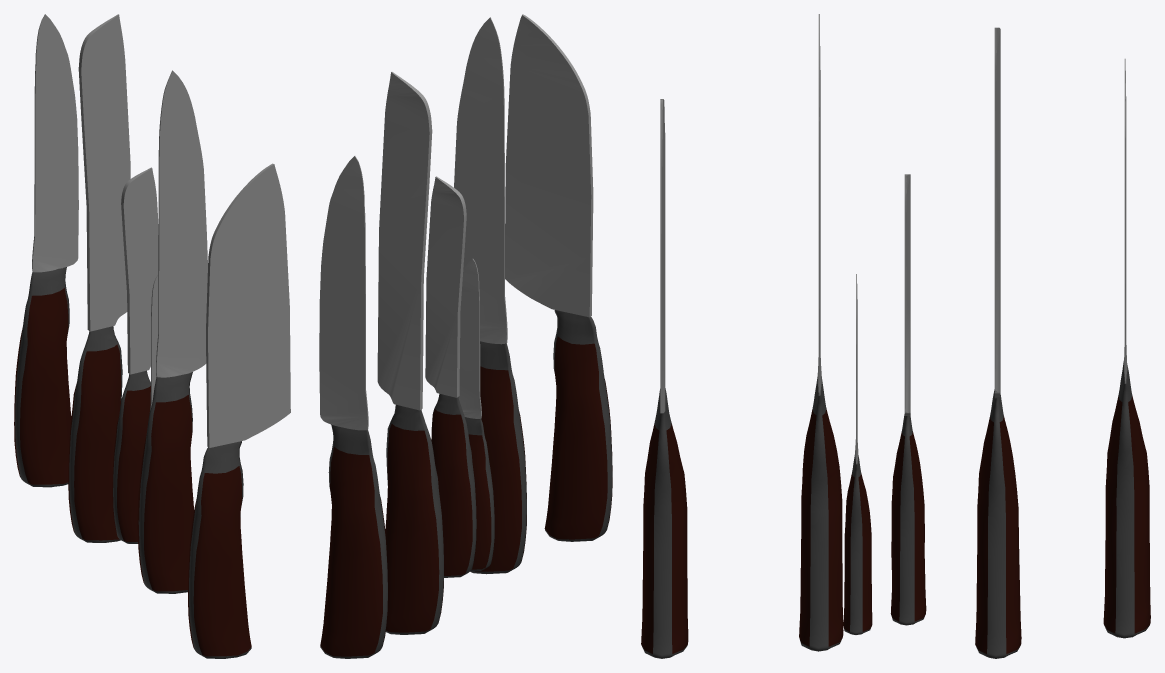
File: Knives separated.FBX
The picture shows the model from 3 angles, left to right: view 1: azimuth 30°, elevation 25°; view 2: azimuth 150°, elevation 25°; view 3: azimuth 270°, elevation 25°; orthographic projection. The views are drawn at different scales.
Visible parts, largest first — view 1: Knife santoku001, Knife Chef001, Knife bread001, Knife slicer001, Knife sandwich001, Knife vegetable001; view 2: Knife santoku001, Knife bread001, Knife slicer001, Knife Chef001, Knife sandwich001, Knife vegetable001; view 3: Knife bread001, Knife santoku001, Knife slicer001, Knife Chef001, Knife sandwich001, Knife vegetable001.
Boxes of the visible parts, x1,y1,x2,y2 form: Knife santoku001: (188, 163, 290, 658); Knife Chef001: (138, 70, 207, 593); Knife bread001: (68, 14, 130, 542); Knife slicer001: (14, 14, 78, 487); Knife sandwich001: (112, 167, 158, 543); Knife vegetable001: (137, 275, 158, 543); Knife santoku001: (505, 14, 612, 541); Knife bread001: (377, 72, 444, 634); Knife slicer001: (319, 156, 387, 658); Knife Chef001: (454, 17, 526, 574); Knife sandwich001: (425, 176, 476, 577); Knife vegetable001: (458, 259, 494, 571); Knife bread001: (975, 27, 1021, 658); Knife santoku001: (641, 99, 688, 658); Knife slicer001: (1103, 58, 1150, 638); Knife Chef001: (799, 14, 843, 651); Knife sandwich001: (890, 174, 926, 625); Knife vegetable001: (843, 274, 872, 634).
Bounding box in the file's own units: 2.68 × 13.67 × 9.87.
